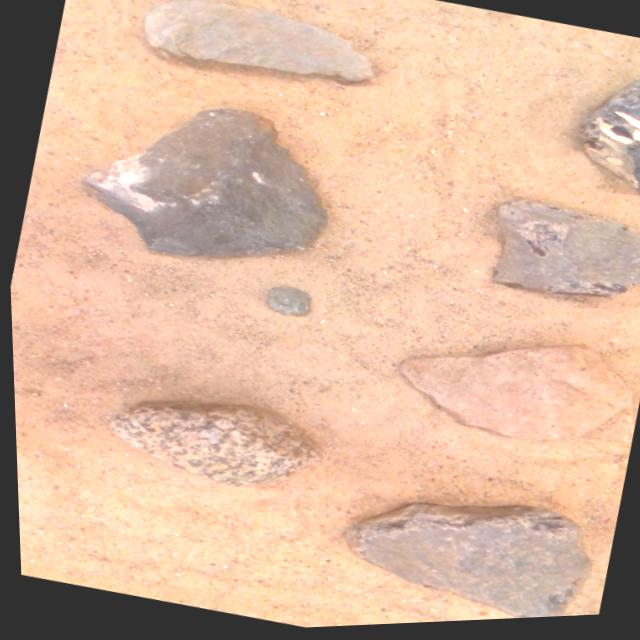rock: (83, 110, 324, 258), (343, 507, 586, 623), (397, 350, 629, 445), (145, 1, 374, 83), (108, 402, 316, 487), (492, 205, 640, 302), (582, 85, 640, 199), (264, 288, 308, 318)
